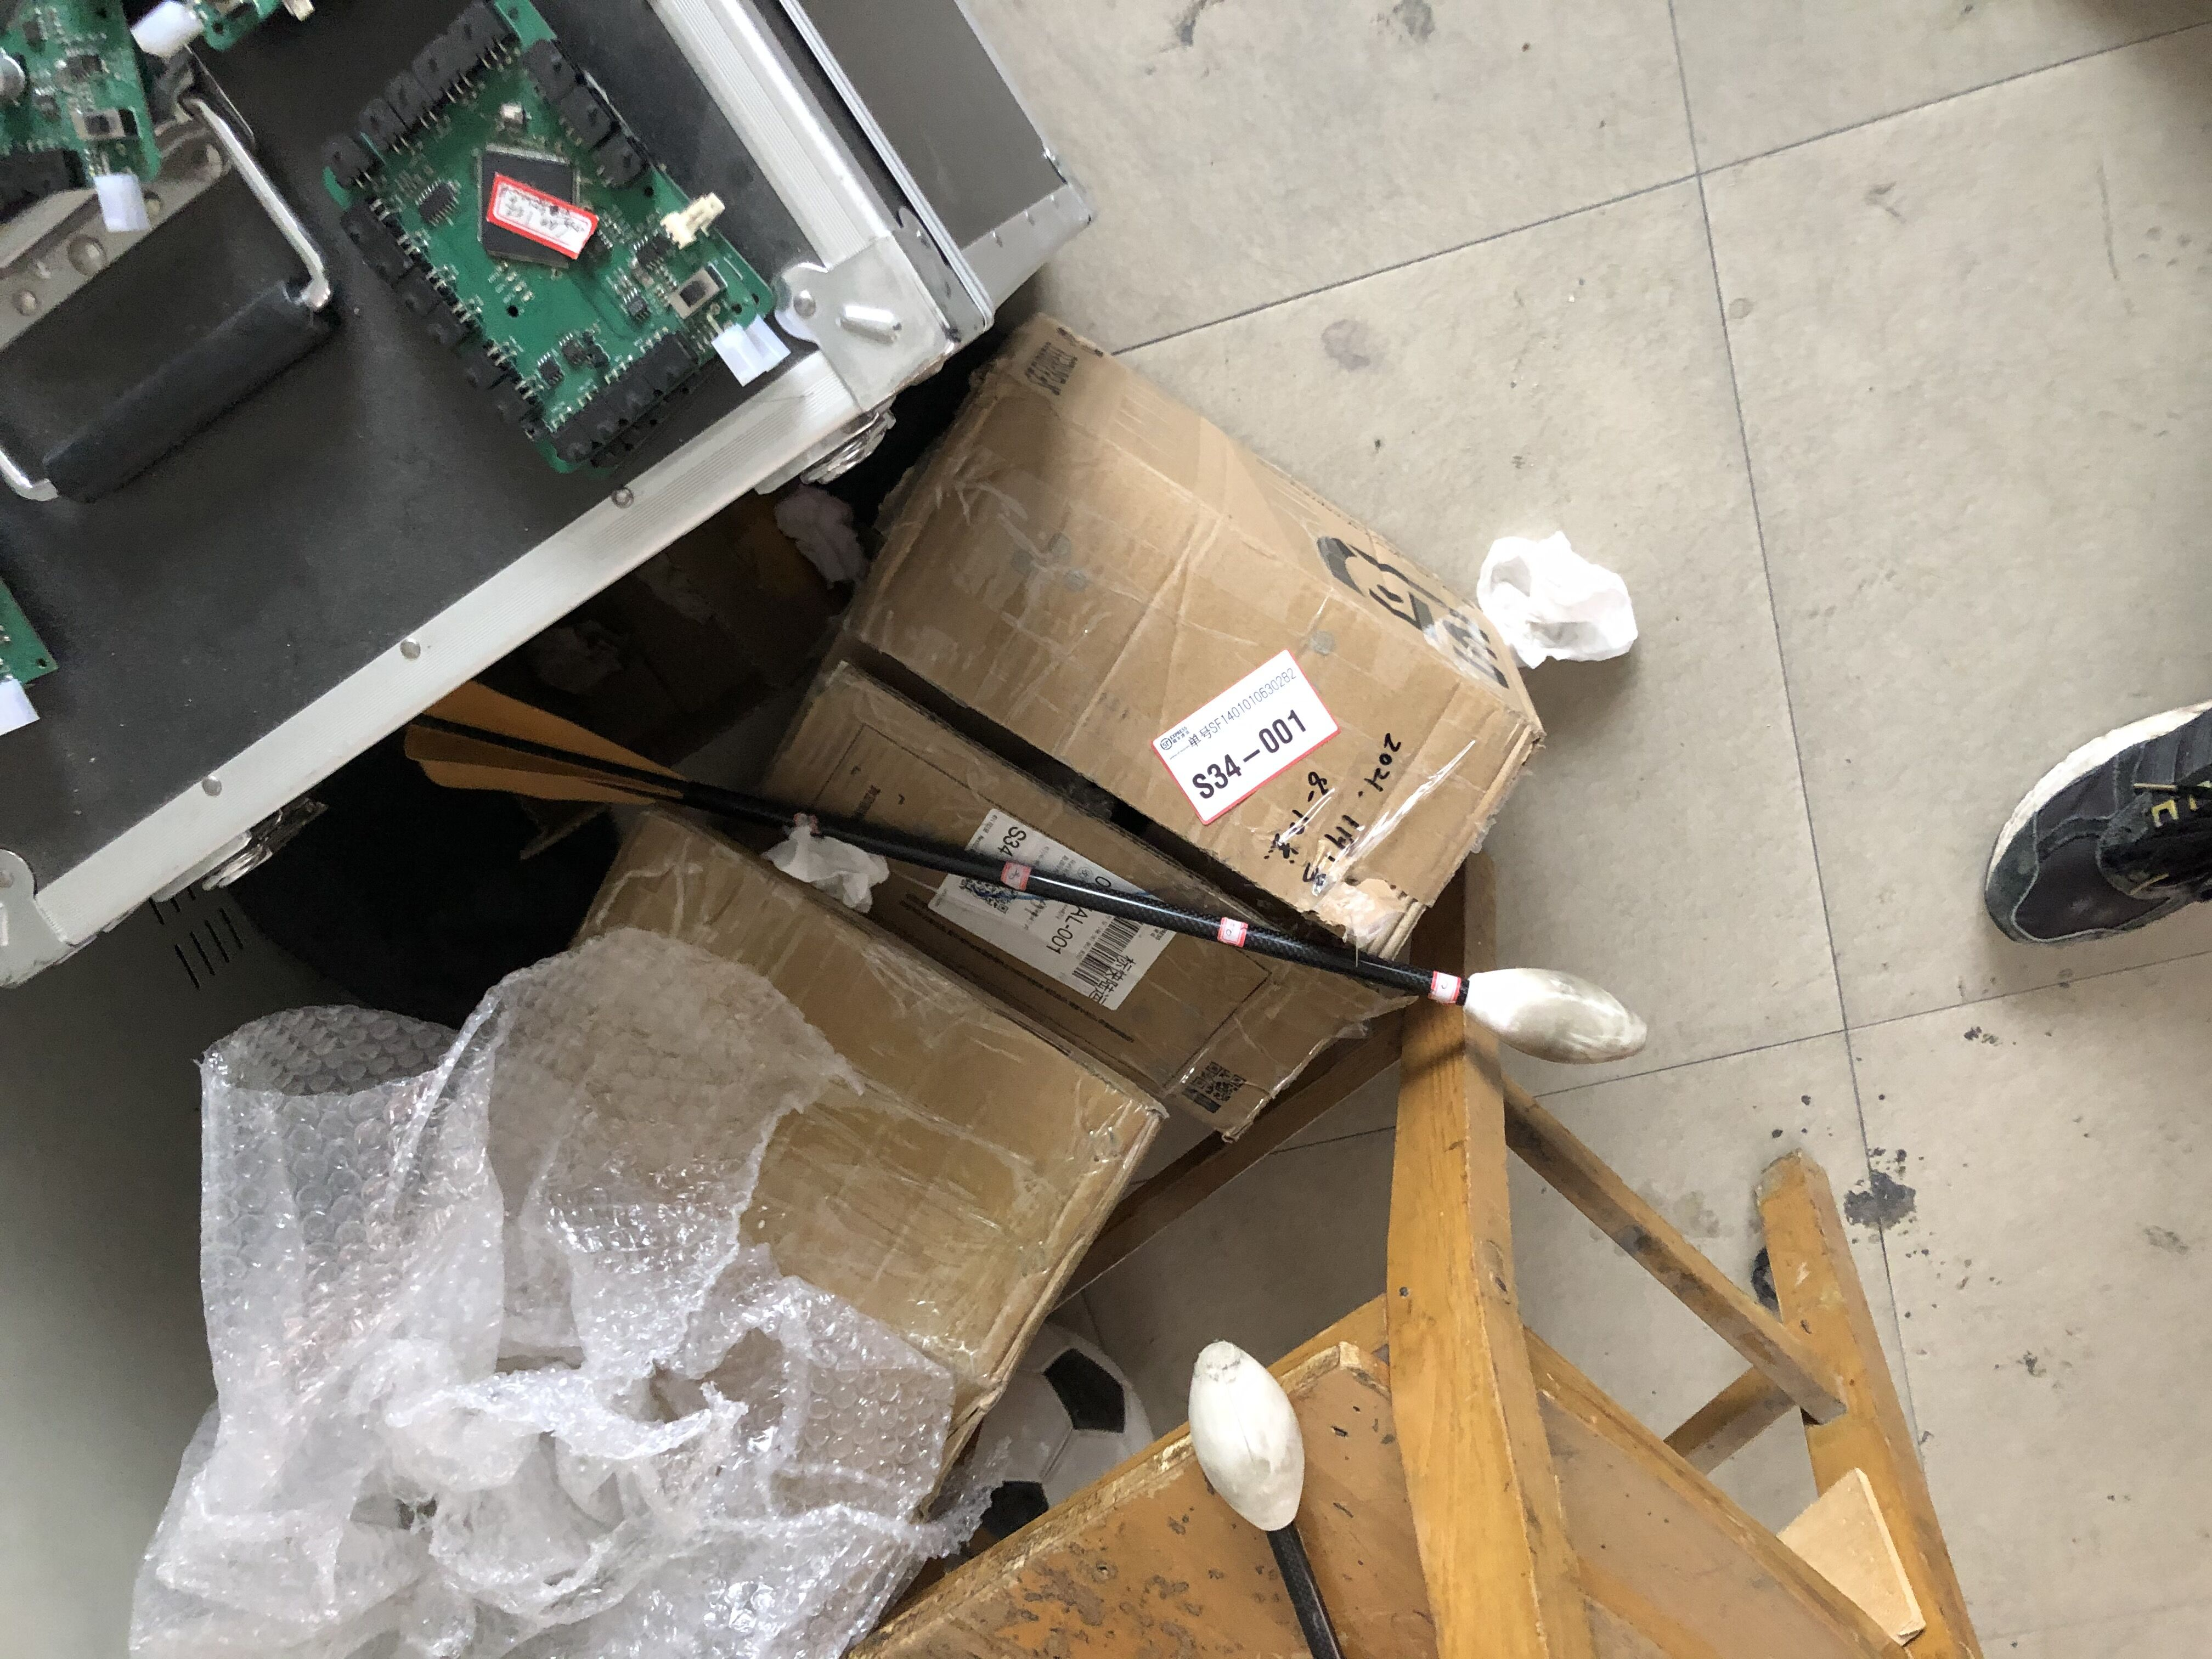arrow: (408, 680, 1651, 1061)
arrowFront: (1188, 1338, 1308, 1535), (1458, 962, 1651, 1061)
